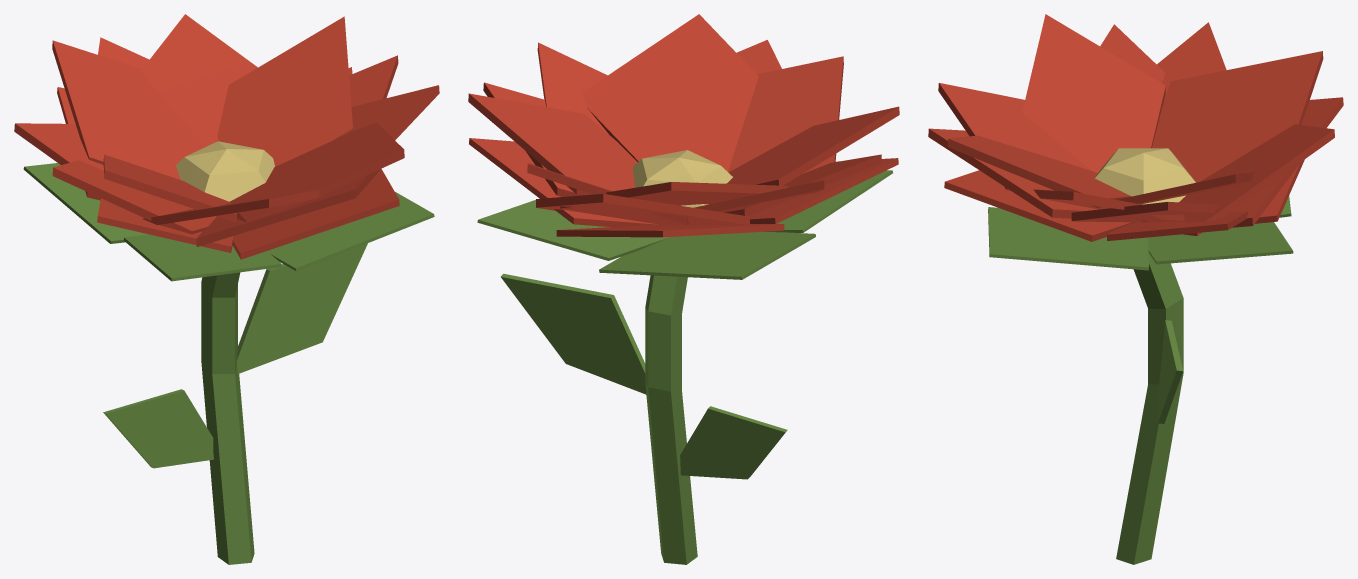
The model's file is FlorConTallo.fbx.
The picture shows the model from 3 angles, left to right: view 1: azimuth 30°, elevation 25°; view 2: azimuth 150°, elevation 25°; view 3: azimuth 270°, elevation 25°; orthographic projection.
Visible parts, largest first — view 1: Flor, Tallo; view 2: Flor, Tallo; view 3: Flor, Tallo.
Part boxes in pixels (bbox=[...]): Flor: bbox=[14, 14, 439, 281]; Tallo: bbox=[103, 243, 367, 564]; Flor: bbox=[468, 14, 899, 279]; Tallo: bbox=[500, 273, 787, 564]; Flor: bbox=[928, 14, 1343, 270]; Tallo: bbox=[1116, 253, 1183, 564].
Bounding box in the file's own units: 2.66 × 3.19 × 2.6.
